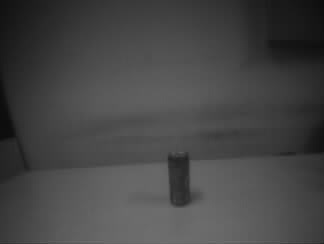Tin can: (167, 150, 191, 207)
